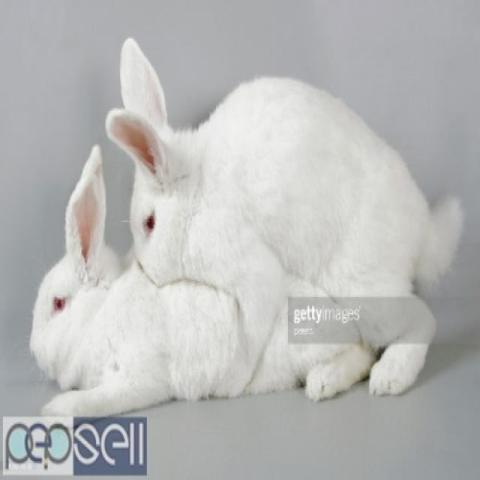small_animal: (102, 35, 465, 396), (29, 140, 388, 428)
